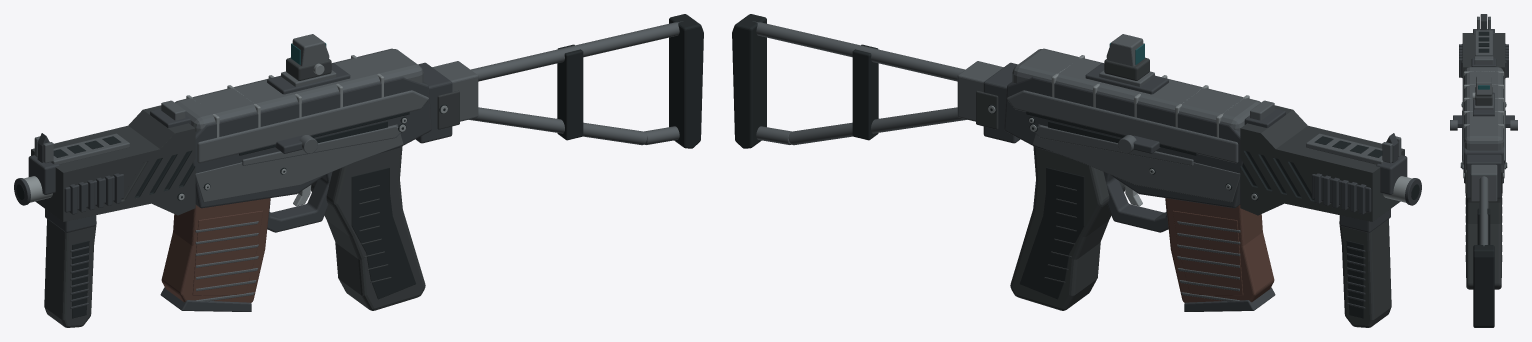
The picture shows the model from 3 angles, left to right: view 1: azimuth 30°, elevation 25°; view 2: azimuth 150°, elevation 25°; view 3: azimuth 270°, elevation 25°; orthographic projection. The views are drawn at different scales.
Visible parts, largest first — view 1: part_receiver_surfaces, part_stock_surfaces, part_handguard_surfaces, part_grip_surfaces, part_magazine_surfaces, part_foregrip_surfaces, part_controls_surfaces, part_optic_surfaces, part_front_surfaces; view 2: part_receiver_surfaces, part_stock_surfaces, part_handguard_surfaces, part_grip_surfaces, part_magazine_surfaces, part_foregrip_surfaces, part_controls_surfaces, part_optic_surfaces, part_front_surfaces; view 3: part_stock_surfaces, part_receiver_surfaces, part_grip_surfaces, part_handguard_surfaces, part_optic_surfaces, part_controls_surfaces, part_front_surfaces.
Boxes of the visible parts, x1,y1,x2,y2 form: part_receiver_surfaces: (175,48,431,208); part_stock_surfaces: (415,14,703,148); part_handguard_surfaces: (31,105,195,221); part_grip_surfaces: (311,146,425,310); part_magazine_surfaces: (160,198,270,311); part_foregrip_surfaces: (44,209,96,327); part_controls_surfaces: (150,100,406,232); part_optic_surfaces: (267,34,350,94); part_front_surfaces: (14,133,59,205); part_receiver_surfaces: (1004,48,1260,208); part_stock_surfaces: (732,14,1020,148); part_handguard_surfaces: (1240,105,1404,221); part_grip_surfaces: (1010,146,1124,310); part_magazine_surfaces: (1165,198,1275,311); part_foregrip_surfaces: (1339,209,1391,327); part_controls_surfaces: (1029,100,1285,232); part_optic_surfaces: (1085,34,1168,94); part_front_surfaces: (1376,133,1421,205); part_stock_surfaces: (1464,154,1503,327); part_receiver_surfaces: (1462,67,1505,183); part_grip_surfaces: (1465,194,1502,289); part_handguard_surfaces: (1459,30,1508,107); part_optic_surfaces: (1472,76,1494,116); part_controls_surfaces: (1450,56,1517,169); part_front_surfaces: (1473,14,1494,34).
Size of the model in its own units: 230 by 89.46 by 30.5.
